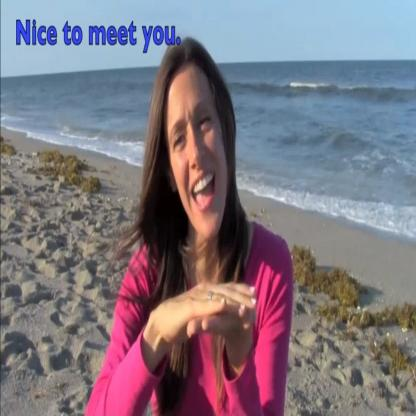NiceToMeetYou: (157, 254, 256, 357)
